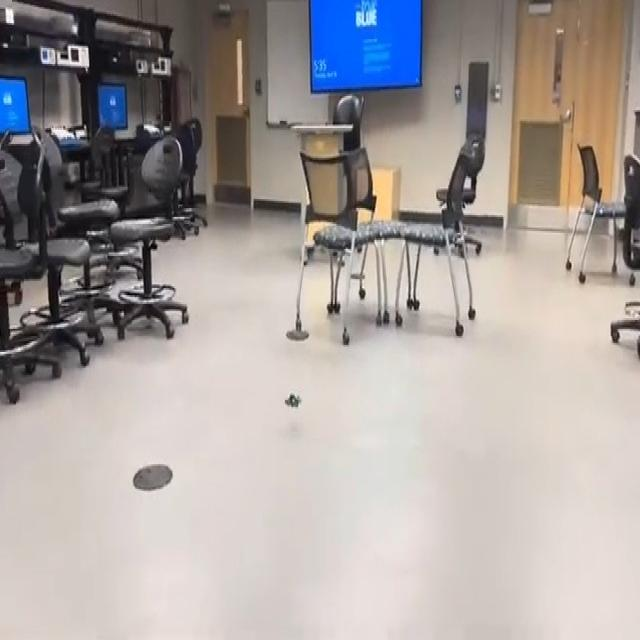drone: (280, 382, 306, 423)
